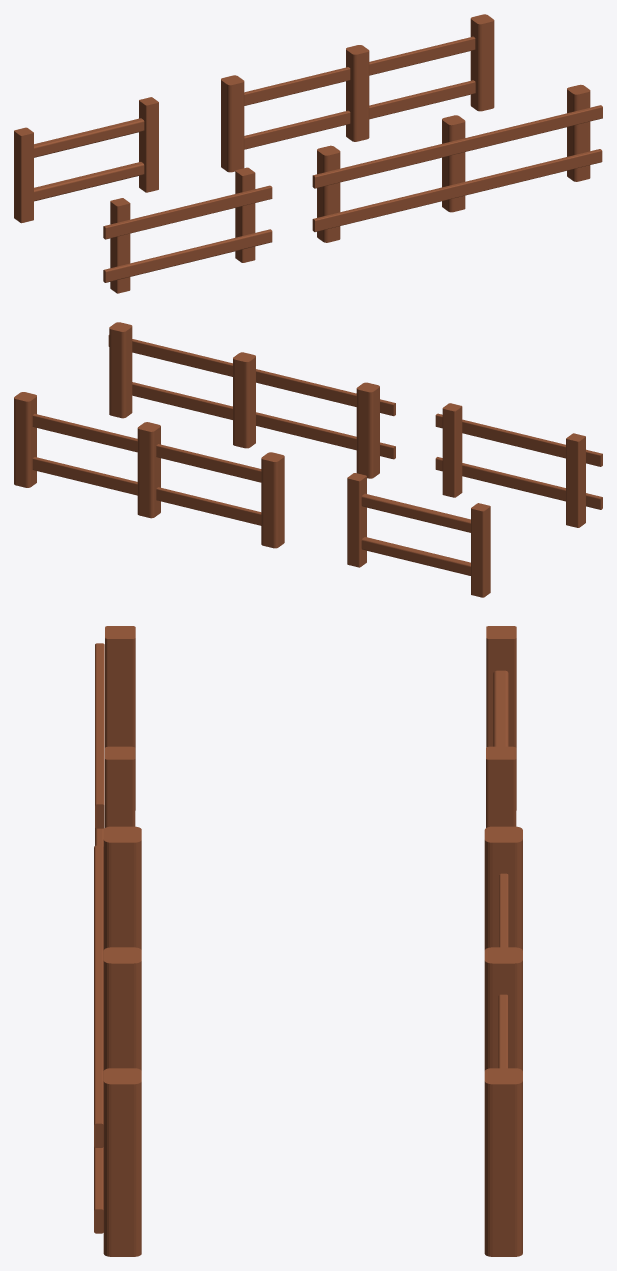
The model's file is fence.glb.
3 renders of one model, top to bottom at view 1: azimuth 30°, elevation 25°; view 2: azimuth 150°, elevation 25°; view 3: azimuth 270°, elevation 25°, orthographic. The views are drawn at different scales.
Visible parts, largest first — view 1: Fence.003, Fence.004, Fence.002, Fence.001; view 2: Fence.003, Fence.004, Fence.002, Fence.001; view 3: Fence.003, Fence.004, Fence.002, Fence.001.
Part boxes in pixels (x1,y1,x2,y2): Fence.003: (312, 84, 602, 242); Fence.004: (221, 14, 494, 172); Fence.002: (103, 167, 272, 293); Fence.001: (14, 97, 158, 223); Fence.003: (108, 322, 395, 478); Fence.004: (14, 392, 284, 548); Fence.002: (435, 403, 602, 527); Fence.001: (347, 473, 490, 597); Fence.003: (94, 826, 141, 1256); Fence.004: (484, 826, 522, 1256); Fence.002: (95, 626, 135, 846); Fence.001: (486, 626, 516, 827).
Bounding box in the file's own units: 5.97 × 1 × 2.25.
